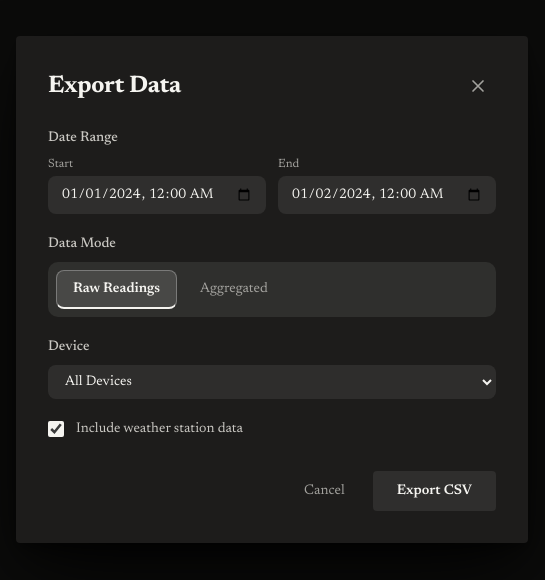
Test: ExportModal › shows error when no data found
What coordinates should you click on to do the following:
click the button "Export CSV"
I would click on:
 (434, 490)
Its box is [373,470,496,510].
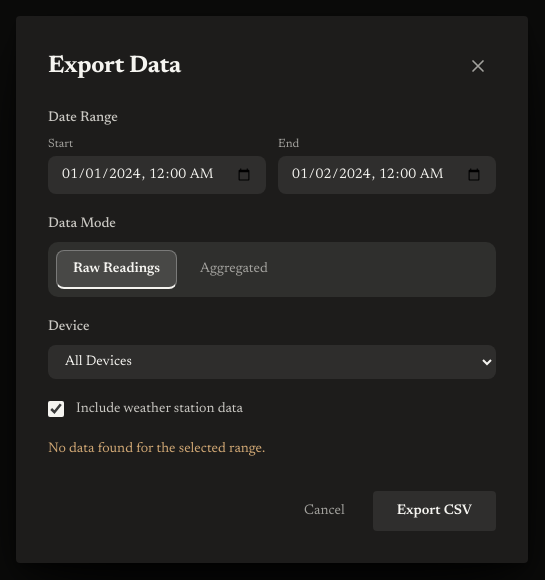
Check: the text "No data found for the selected range." is shown, box [48,442,265,456]
